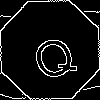Q: (25, 25, 81, 85)
